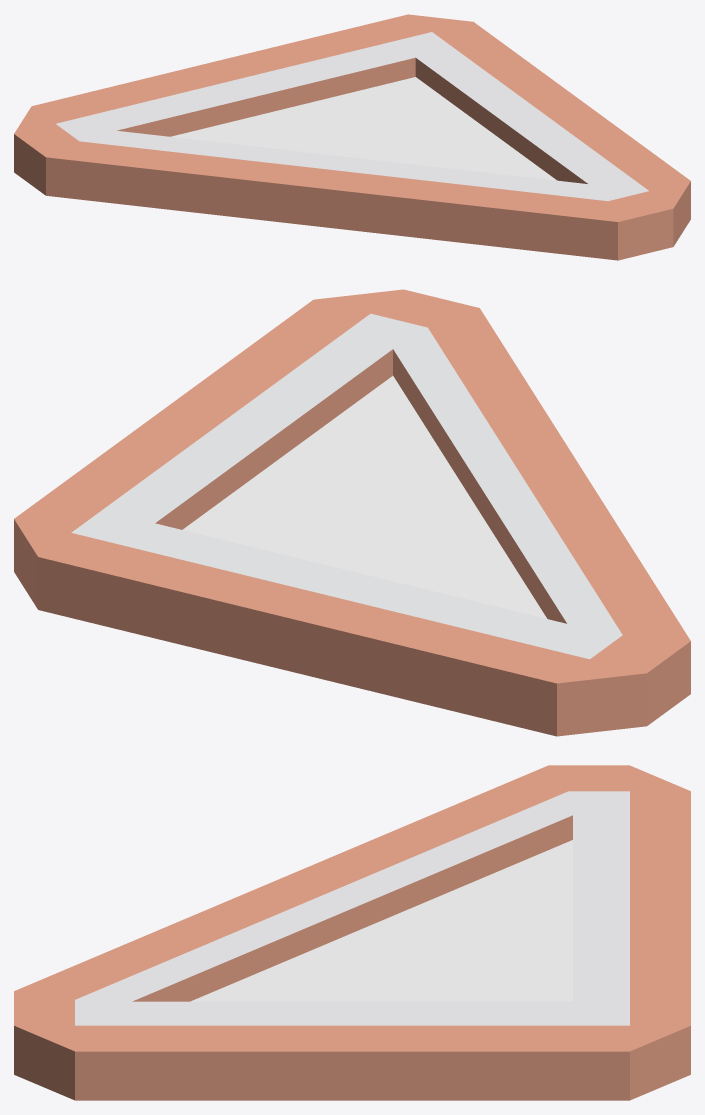
Rendered from metalTileCorner.glb.
The picture shows the model from 3 angles, top to bottom: view 1: azimuth 30°, elevation 25°; view 2: azimuth 150°, elevation 25°; view 3: azimuth 270°, elevation 25°; orthographic projection. The views are drawn at different scales.
Visible parts, largest first — view 1: metalTileCorner; view 2: metalTileCorner; view 3: metalTileCorner.
Part boxes in pixels (x1,y1,x2,y2): metalTileCorner: (14,14,690,260); metalTileCorner: (14,289,690,736); metalTileCorner: (14,765,690,1100).
Bounding box in the file's own units: 10 × 0.8 × 10.
